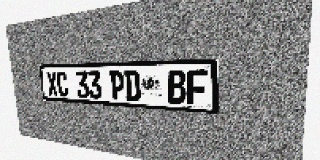3: (87, 71, 102, 99), (75, 71, 89, 98)
B: (167, 70, 186, 104)
C: (56, 71, 69, 97)
D: (124, 70, 141, 101)
F: (187, 69, 207, 106)
P: (109, 71, 125, 100)
X: (46, 71, 58, 96)
